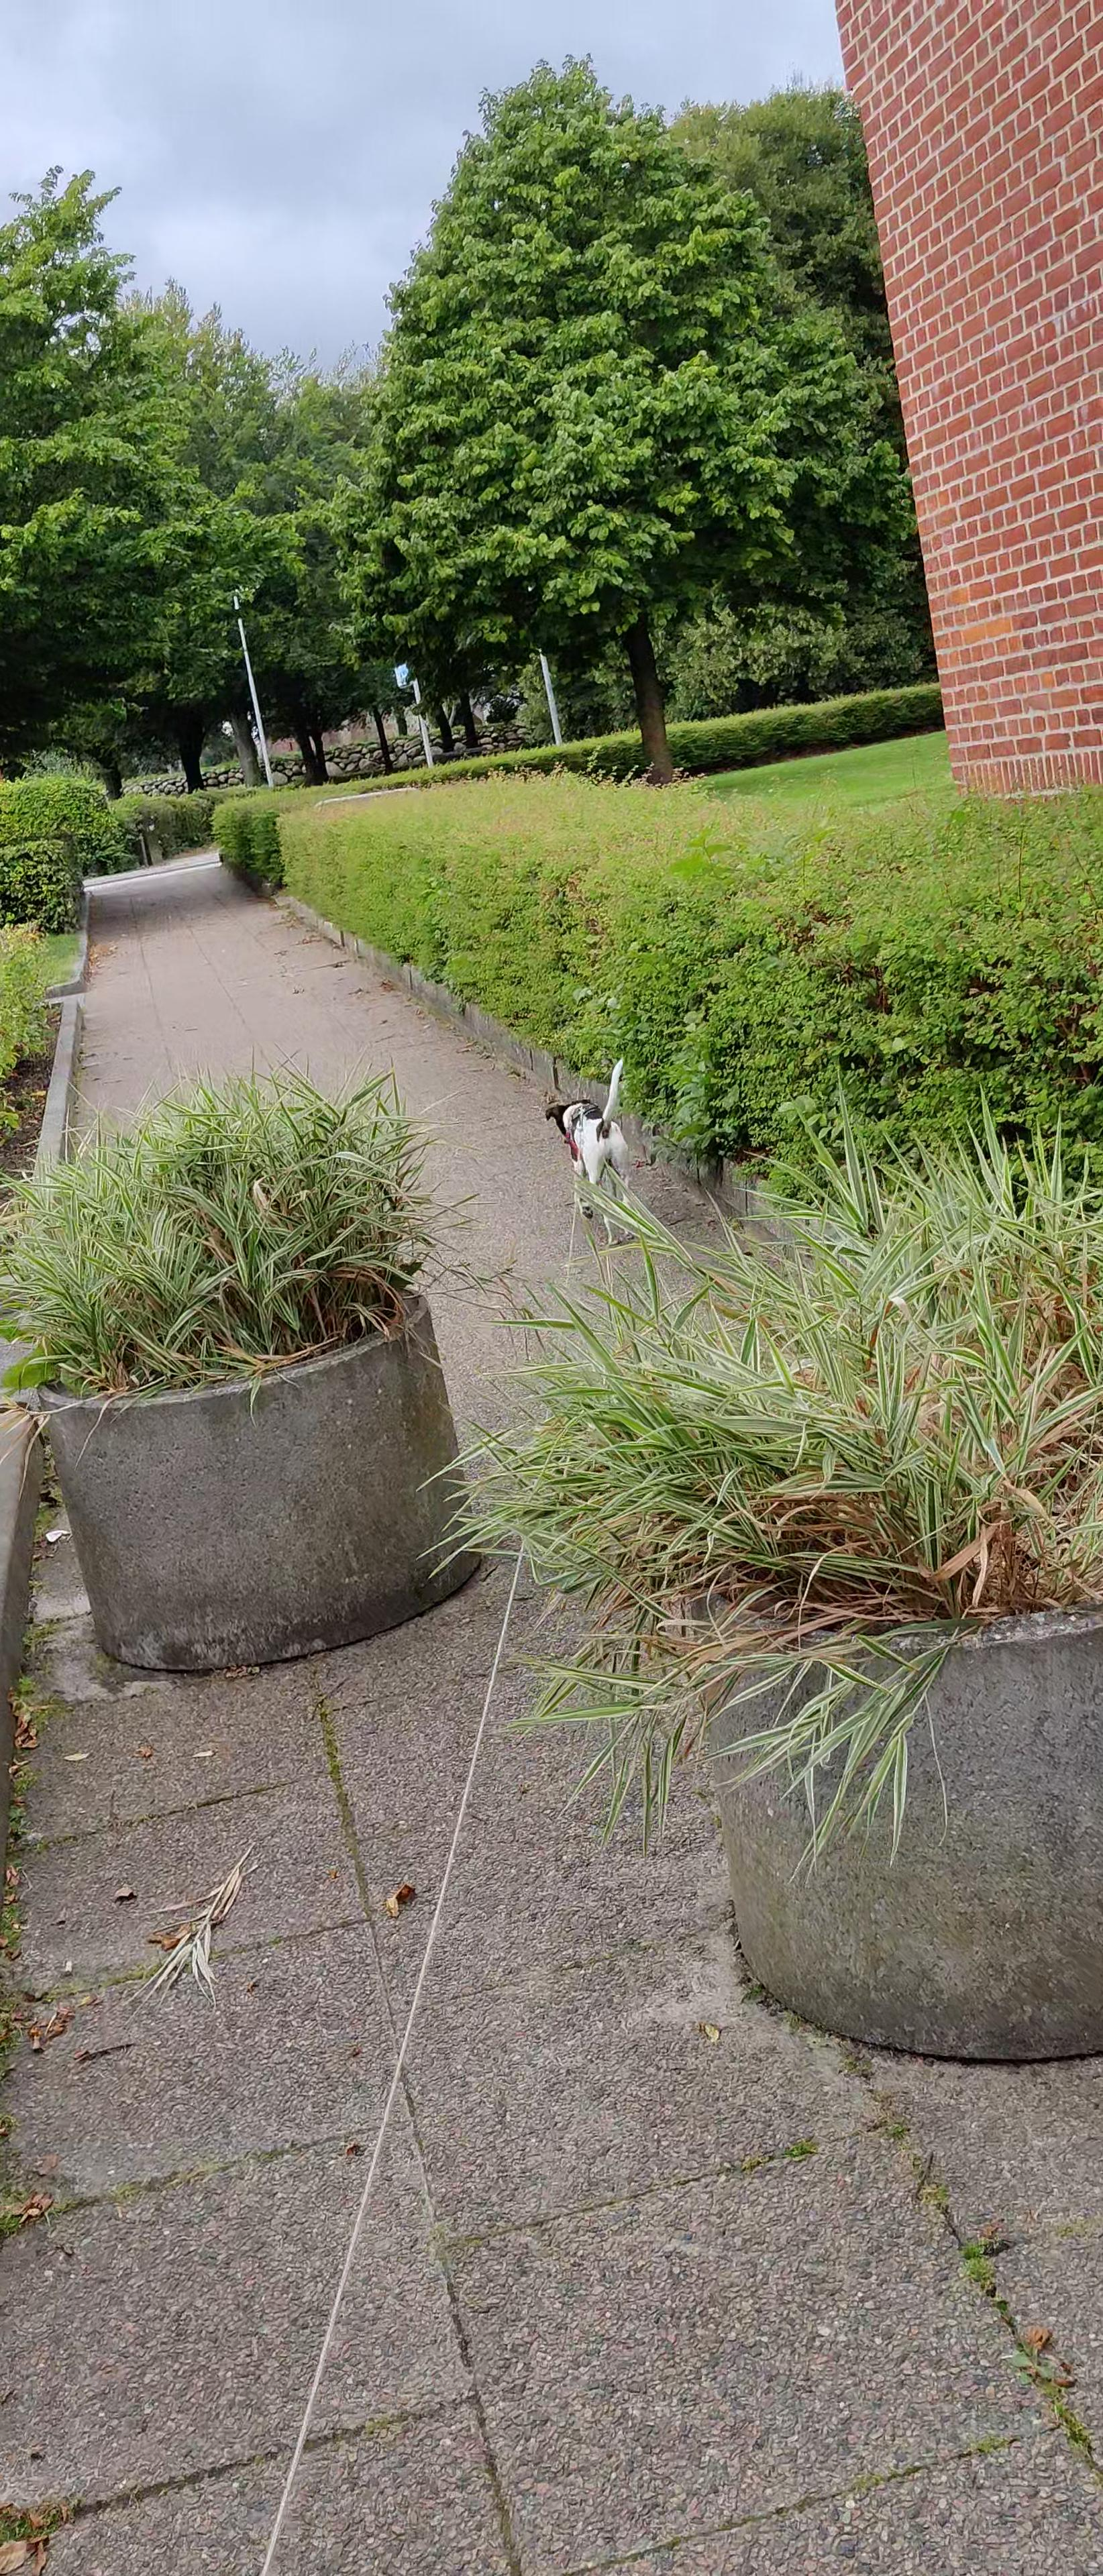Dog: (541, 1053, 636, 1249)
